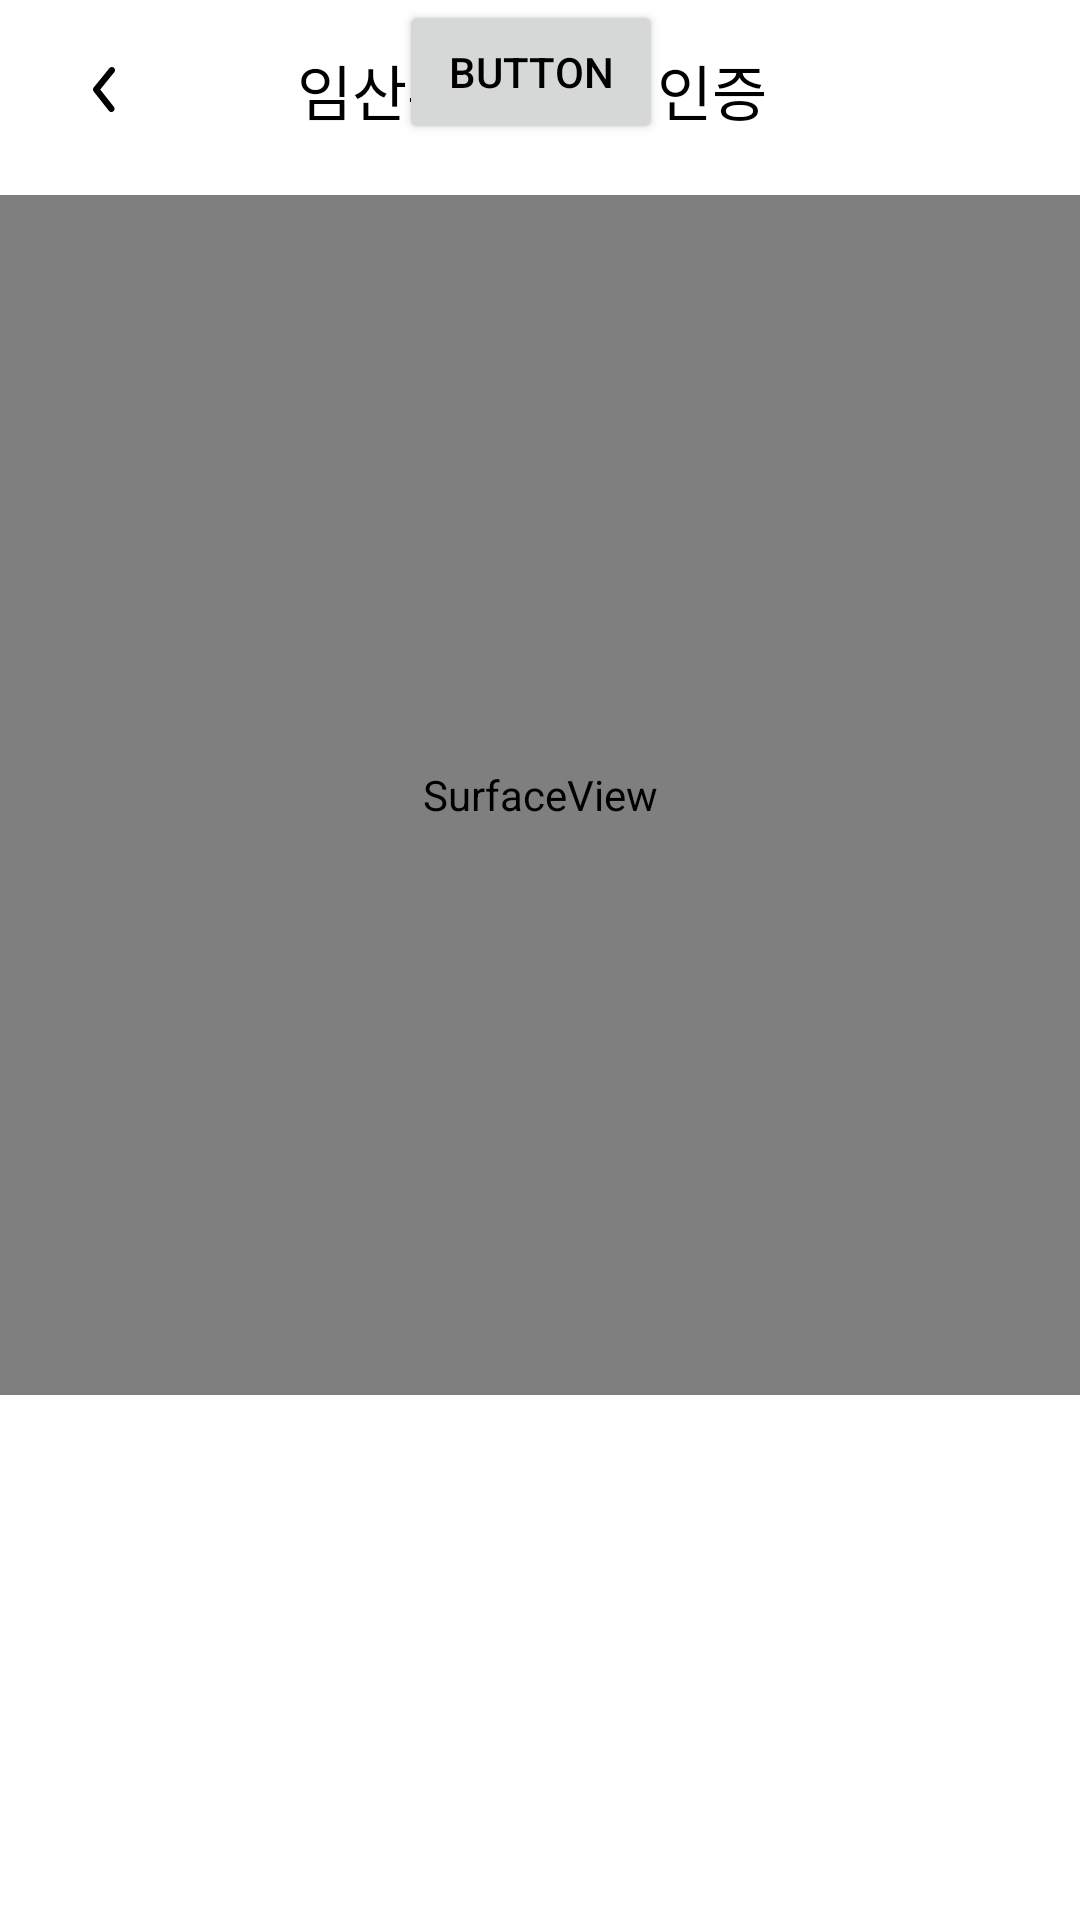

Locate icon controls on the screen. Image size 1080 × 1920, boxes as (x1, y1, x2, y2).
previous: (93, 67, 115, 112)
